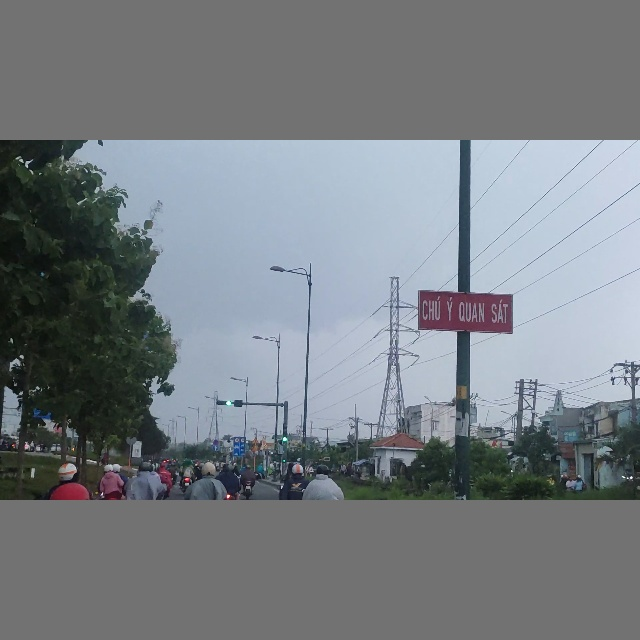I.407a: (213, 446, 219, 451)
R.415a: (234, 443, 245, 456)
W.224: (252, 437, 259, 444)
W.245a: (252, 445, 259, 452)
